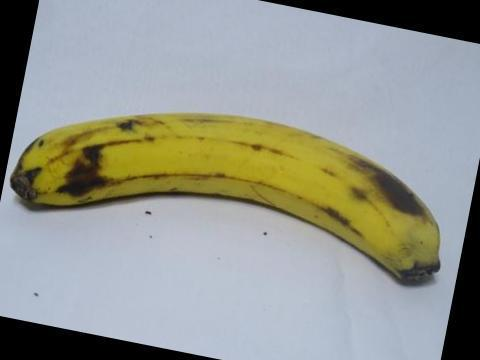ripe: (4, 99, 457, 291)
